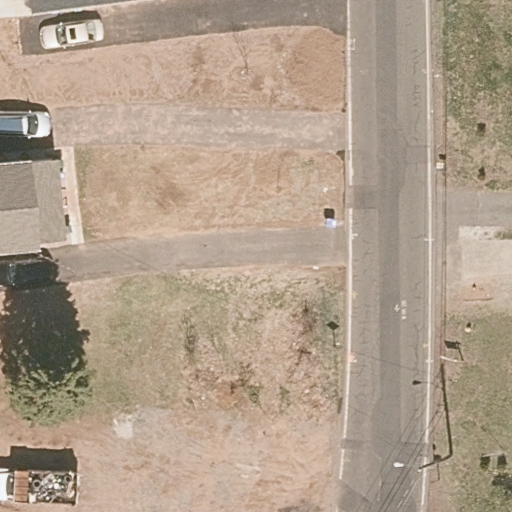DT: (391, 445, 452, 481)
